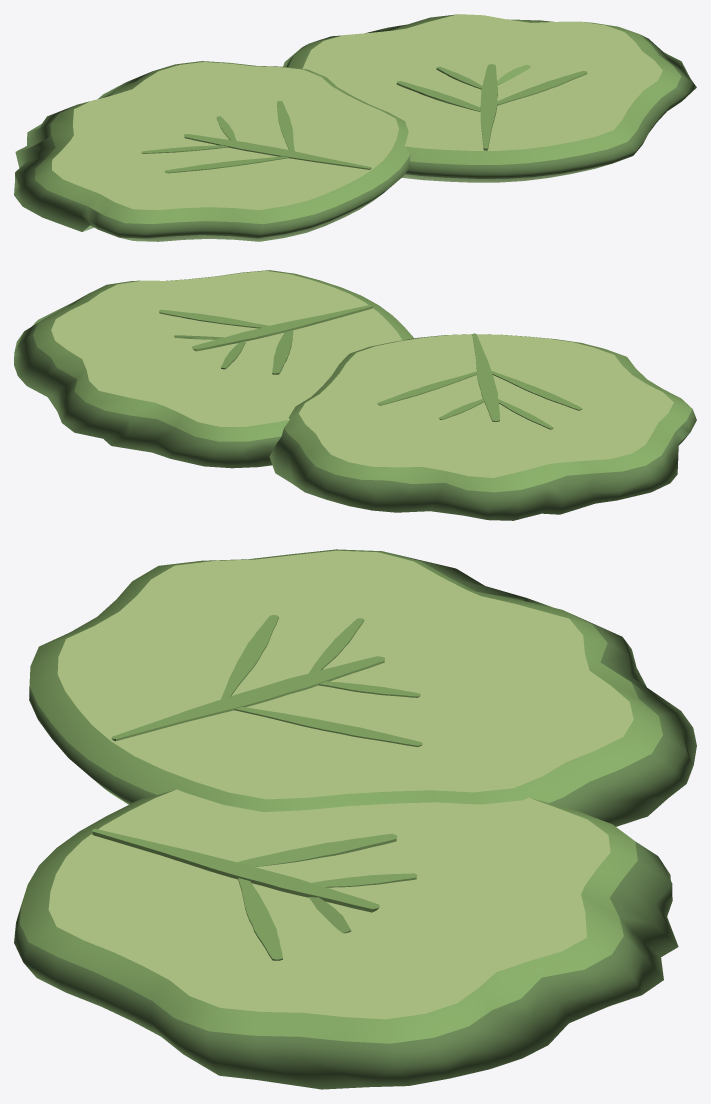
The model's file is Anim_Obj_Lechuga_01.fbx.
The picture shows the model from 3 angles, top to bottom: view 1: azimuth 30°, elevation 25°; view 2: azimuth 150°, elevation 25°; view 3: azimuth 270°, elevation 25°; orthographic projection. The views are drawn at different scales.
Visible parts, largest first — view 1: nurbsToPoly2, nurbsToPoly4, pCube1, pCube4, pCube5, pCube3, pCube6, pCube2, pCube7; view 2: nurbsToPoly2, nurbsToPoly4, pCube4, pCube1, pCube5, pCube2, pCube3, pCube6; view 3: nurbsToPoly4, nurbsToPoly2, pCube4, pCube1, pCube6, pCube2, pCube5, pCube3, pCube9, pCube7.
Boxes of the visible parts, x1,y1,x2,y2 form: nurbsToPoly2: [14, 61, 410, 241]; nurbsToPoly4: [283, 14, 696, 182]; pCube1: [184, 134, 371, 169]; pCube4: [480, 64, 497, 150]; pCube5: [497, 71, 587, 105]; pCube3: [164, 156, 288, 173]; pCube6: [396, 81, 480, 111]; pCube2: [277, 101, 294, 151]; pCube7: [141, 145, 228, 153]; nurbsToPoly2: [269, 334, 696, 520]; nurbsToPoly4: [14, 270, 413, 468]; pCube4: [192, 305, 372, 351]; pCube1: [472, 333, 499, 421]; pCube5: [159, 309, 269, 328]; pCube2: [377, 371, 476, 405]; pCube3: [491, 371, 582, 410]; pCube6: [272, 330, 293, 374]; nurbsToPoly4: [14, 789, 678, 1089]; nurbsToPoly2: [29, 549, 696, 826]; pCube4: [92, 829, 379, 912]; pCube1: [111, 656, 384, 741]; pCube6: [237, 833, 397, 866]; pCube2: [234, 707, 422, 747]; pCube5: [238, 878, 282, 960]; pCube3: [221, 615, 278, 699]; pCube9: [311, 873, 417, 887]; pCube7: [308, 618, 364, 673].
Size of the model in its own units: 1.07 by 0.0697 by 0.5933.
